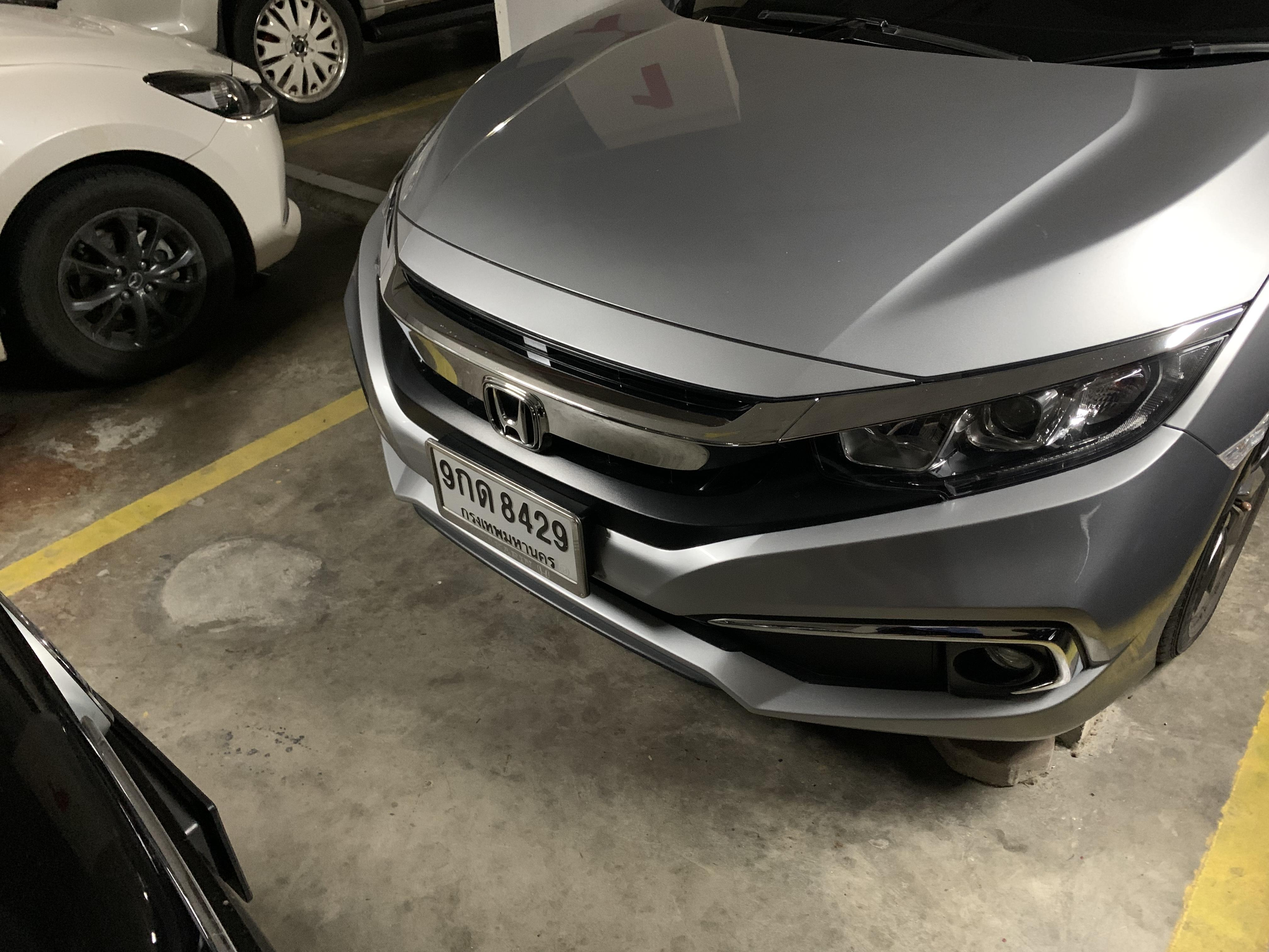license-plate: (425, 434, 593, 605)
